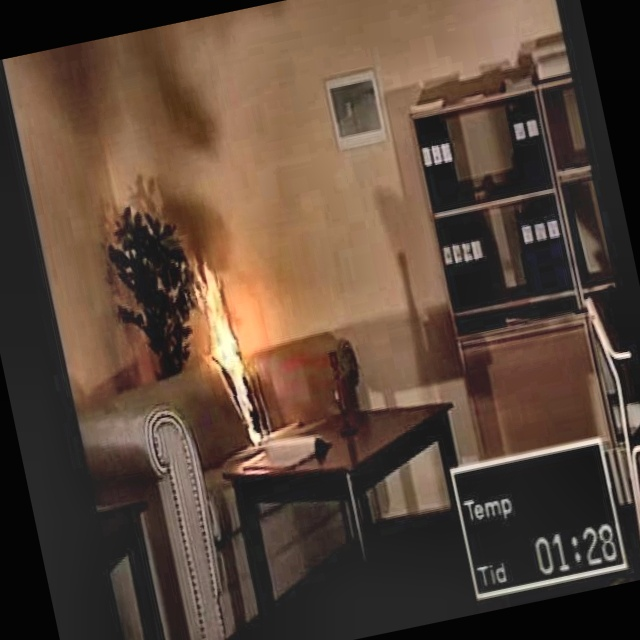fire: (188, 262, 276, 439)
